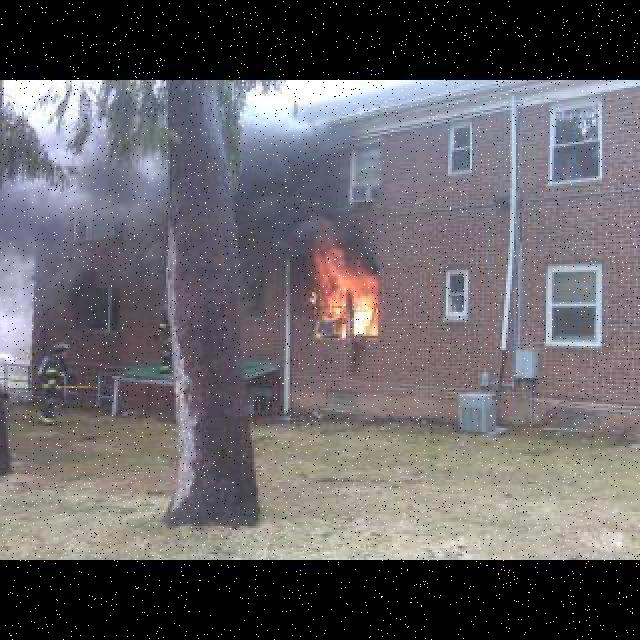fire: (323, 253, 393, 339)
smoke: (37, 130, 355, 290)
